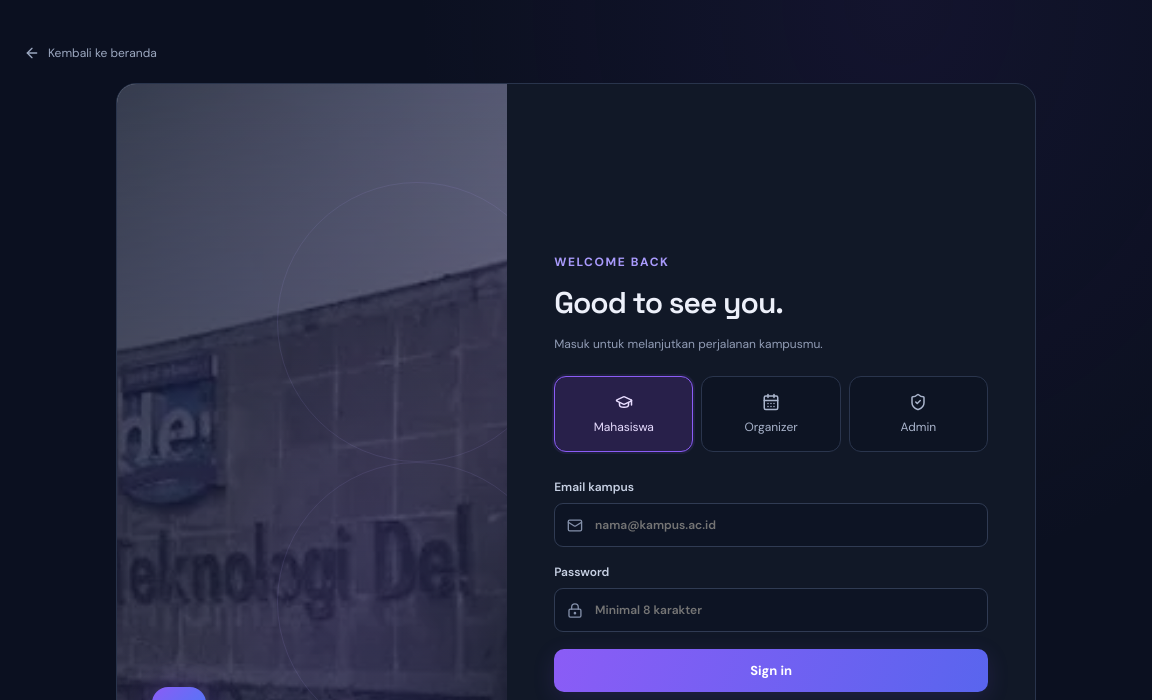
Scenario: AuthPage › mengisi email dan password demo organizer
Click the button "Organizer". click: [771, 414]
box: [701,376,841,452]
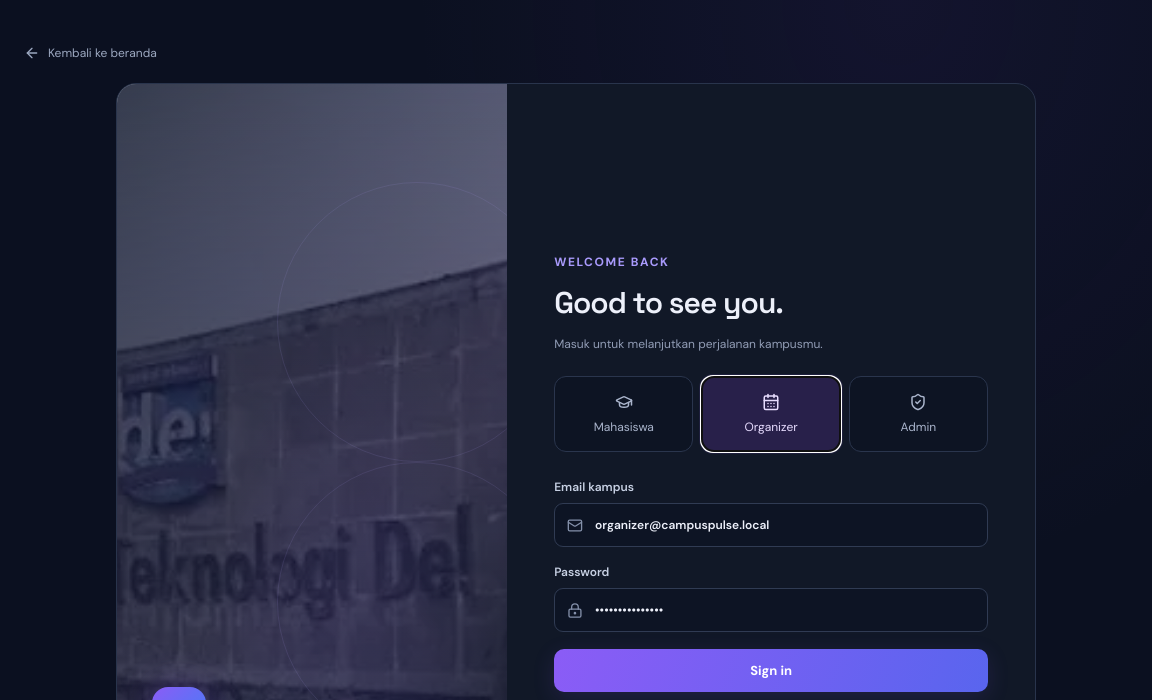
Result: the field labelled "Email kampus" holds "organizer@campuspulse.local" at [593,516,975,534]
Result: the password field labelled "Password" holds "CampusPulse123!" at [593,602,975,620]
